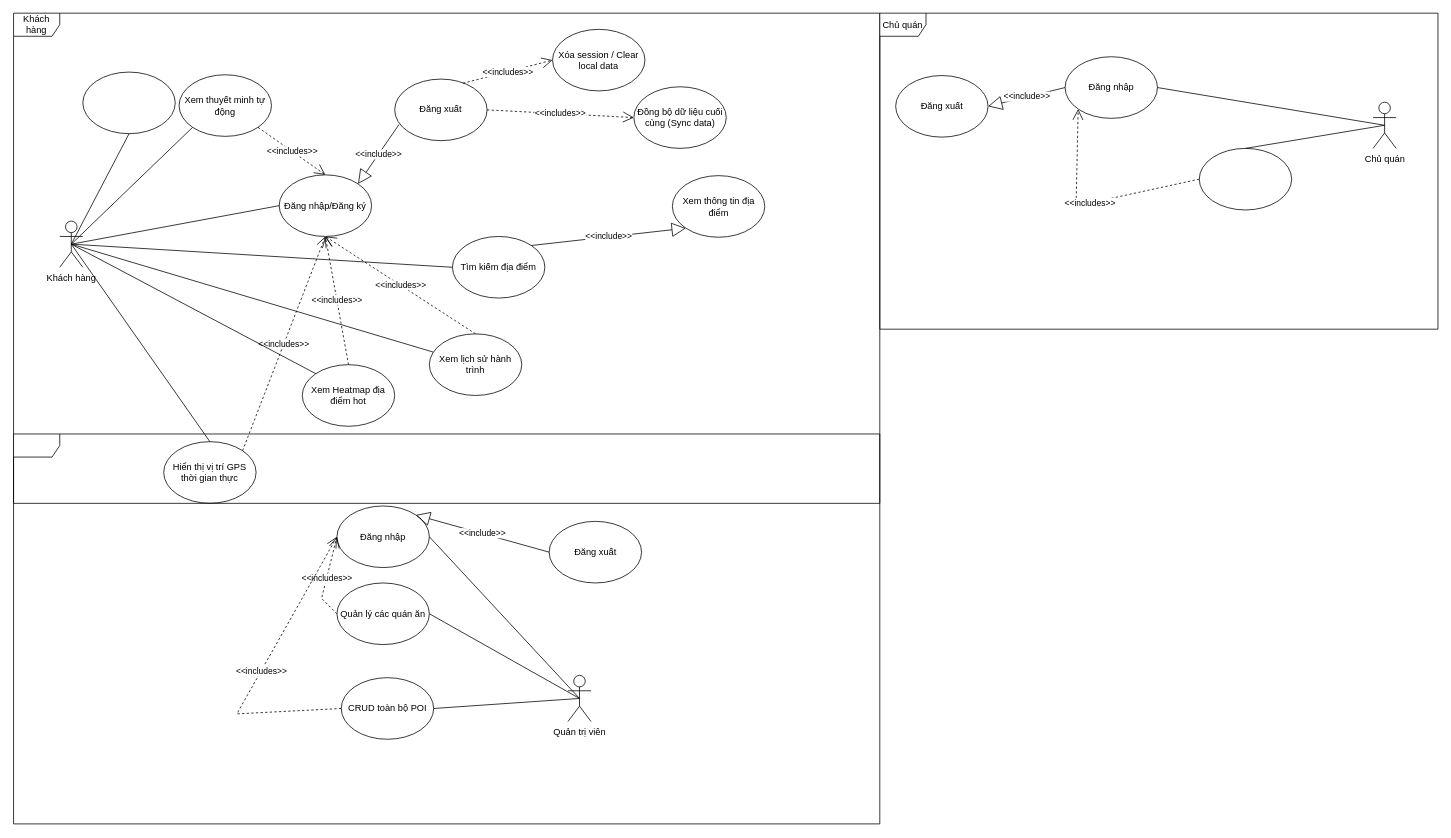
This 1451x838 diagram has some shape labels left out. The shapes that lost their labels are listed below. From the top down, each one's centre as x and y in pixels, then its label:
At (x=128, y=102): "Quét QR kích hoạt nội dung".
At (x=1245, y=179): "Quản lý nội dung POI".
At (x=446, y=628): "Hệ thống".
